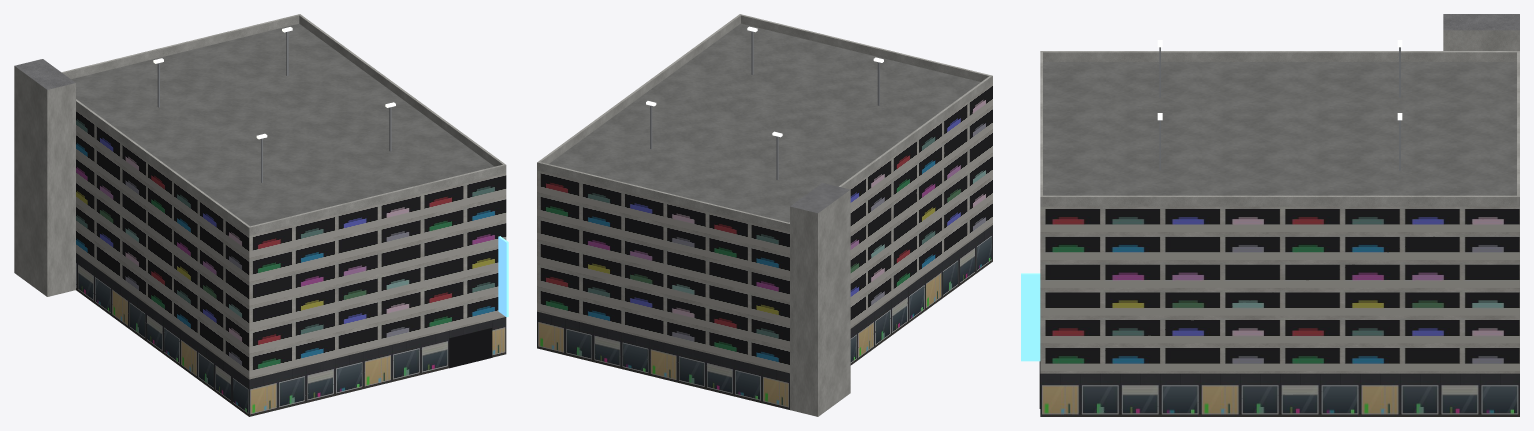
File: 087_parking_retail.glb
The picture shows the model from 3 angles, left to right: view 1: azimuth 30°, elevation 25°; view 2: azimuth 150°, elevation 25°; view 3: azimuth 270°, elevation 25°; orthographic projection. The views are drawn at different scales.
Visible parts, largest first — view 1: 087_parking_retail; view 2: 087_parking_retail; view 3: 087_parking_retail.
Part boxes in pixels (left/top/right/bottom): 087_parking_retail: left=14, top=14, right=508, bottom=416; 087_parking_retail: left=537, top=14, right=992, bottom=416; 087_parking_retail: left=1021, top=14, right=1519, bottom=416.
Bounding box in the file's own units: 40 × 30.5 × 52.
9 materials, 5 textured.
